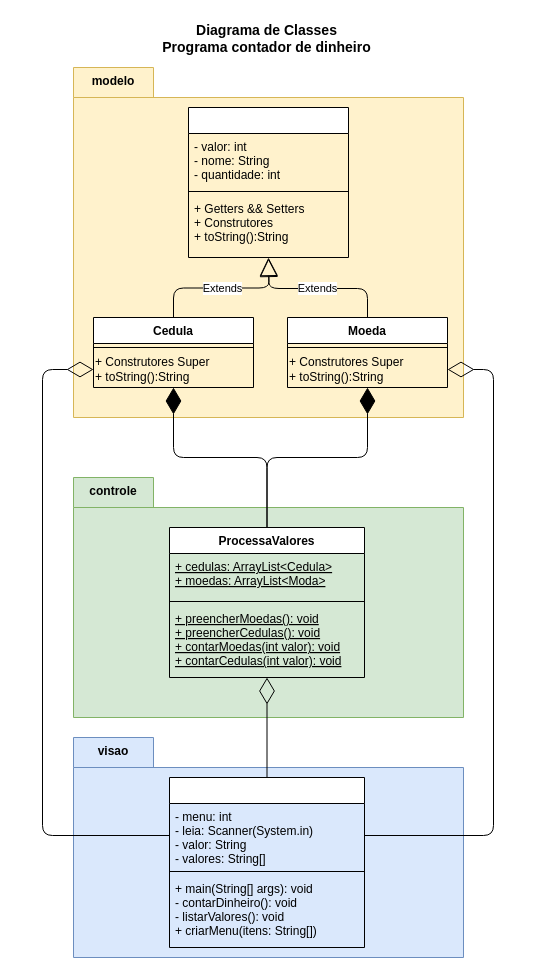
The diagram is 537 pixels wide and 975 high, and some of its shapes have lost their labels. Each missing label, with the box of its shape:
Dinheiro: (188, 106, 348, 258)
TelaCama: (168, 776, 364, 948)
